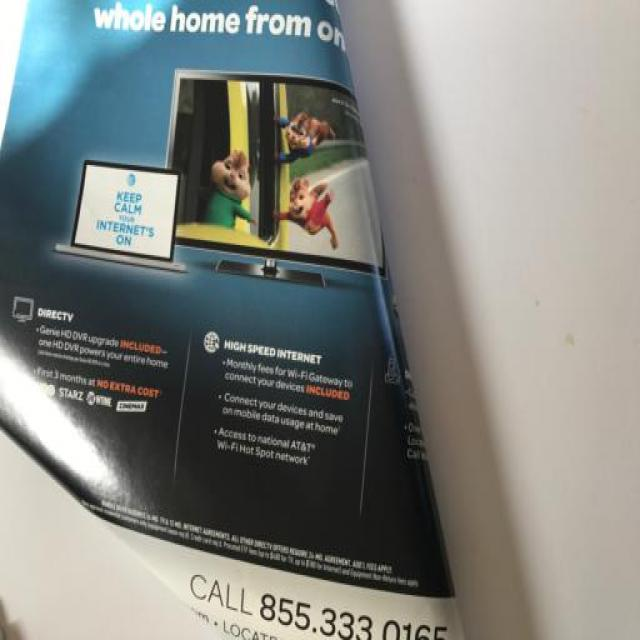paper: (1, 1, 492, 640)
